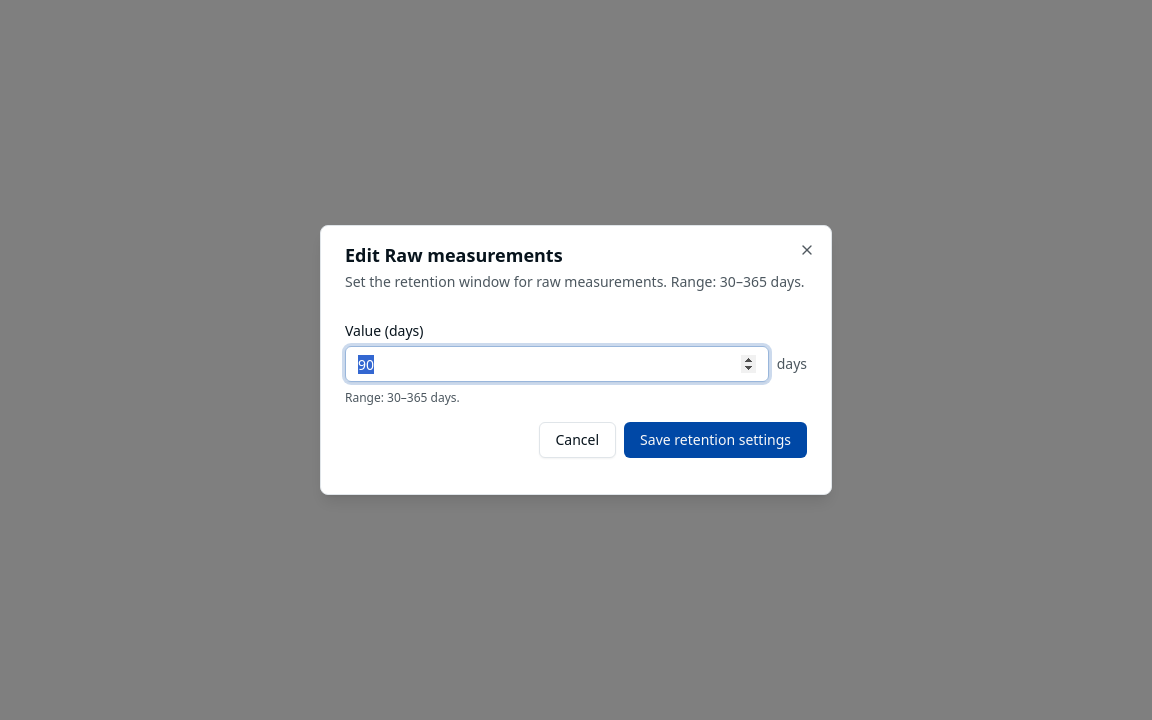
EditRetentionDialog — interaction › Test 6: out-of-range value shows inline zod error on submit
Expected: the heading "Edit Raw measurements" is shown, [345,243,563,267]
Note: Set an out-of-range value via fireEvent (bypasses pointer-events: none from Radix overlay)
Replace the text in the number field with "10": (557, 364) [345,346,769,382]
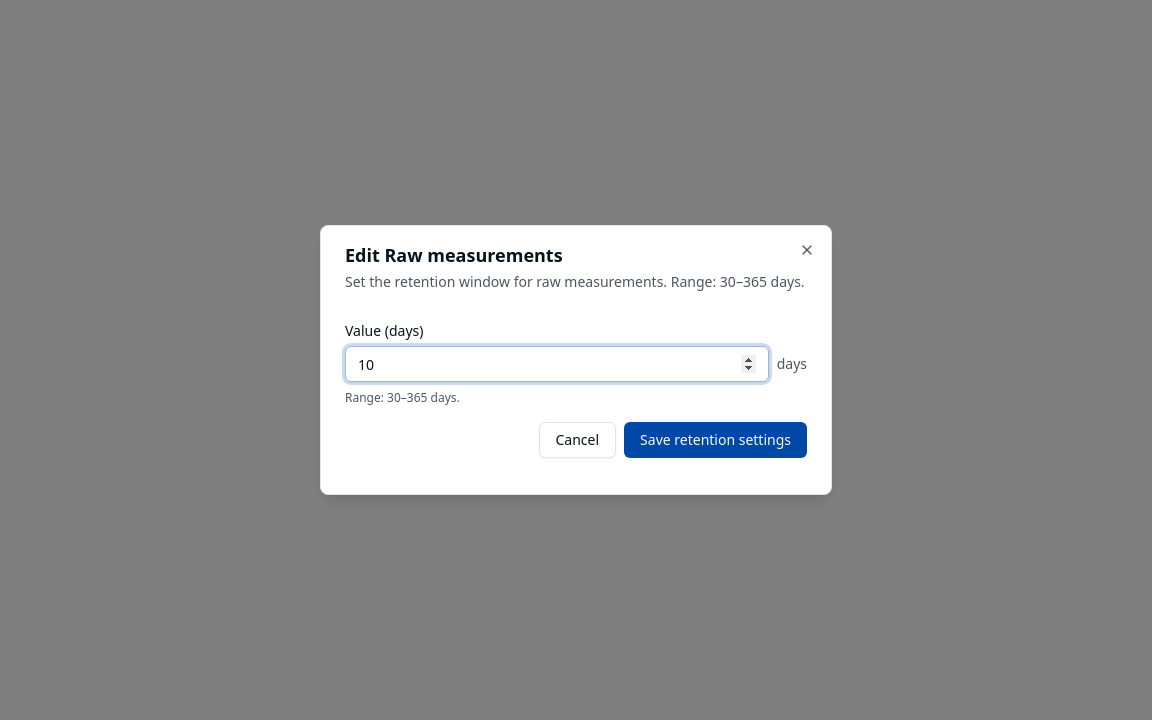
Note: Submit the form via fireEvent.submit to bypass pointer-events check
Submit the form with id "edit-retention-form", box [345,324,807,458]
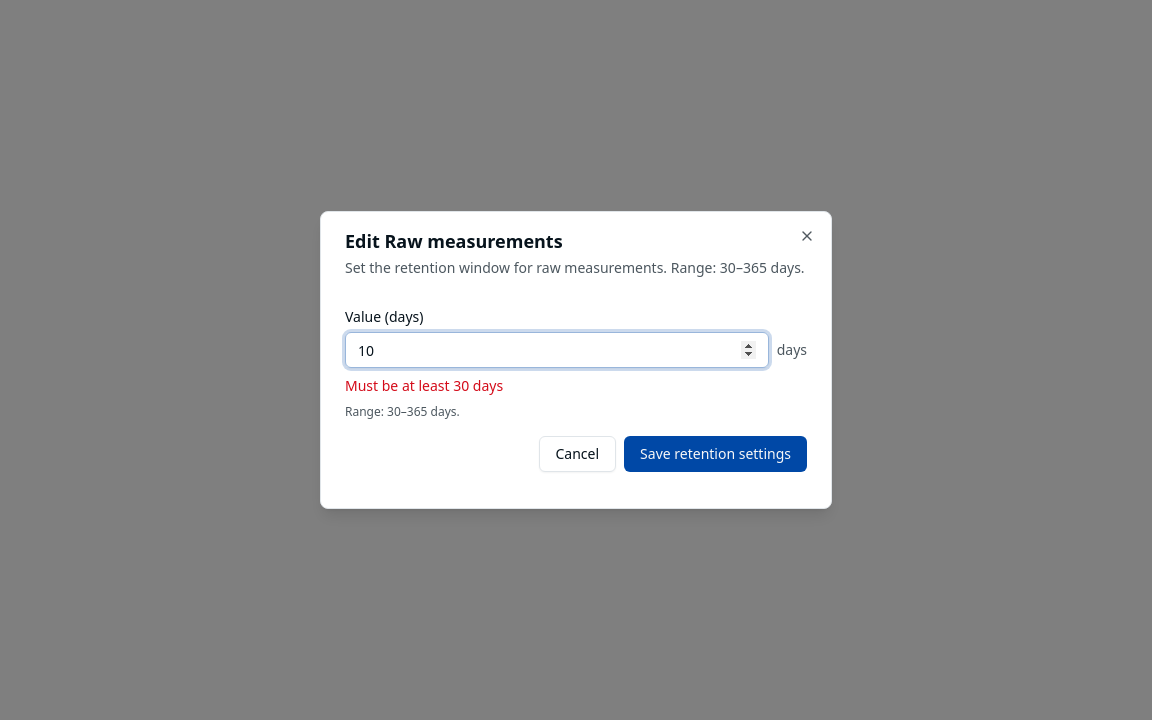
Now the text "Must be at least 30 days" is shown, box [345,376,503,395]
